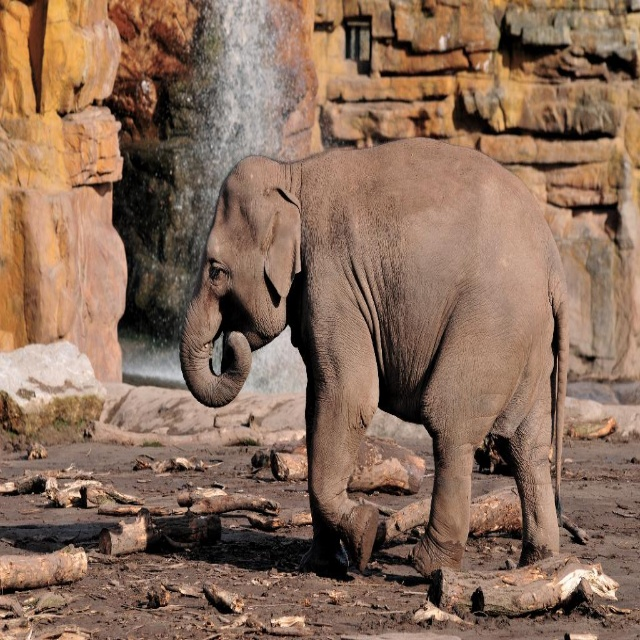Elephant: (172, 130, 579, 597)
